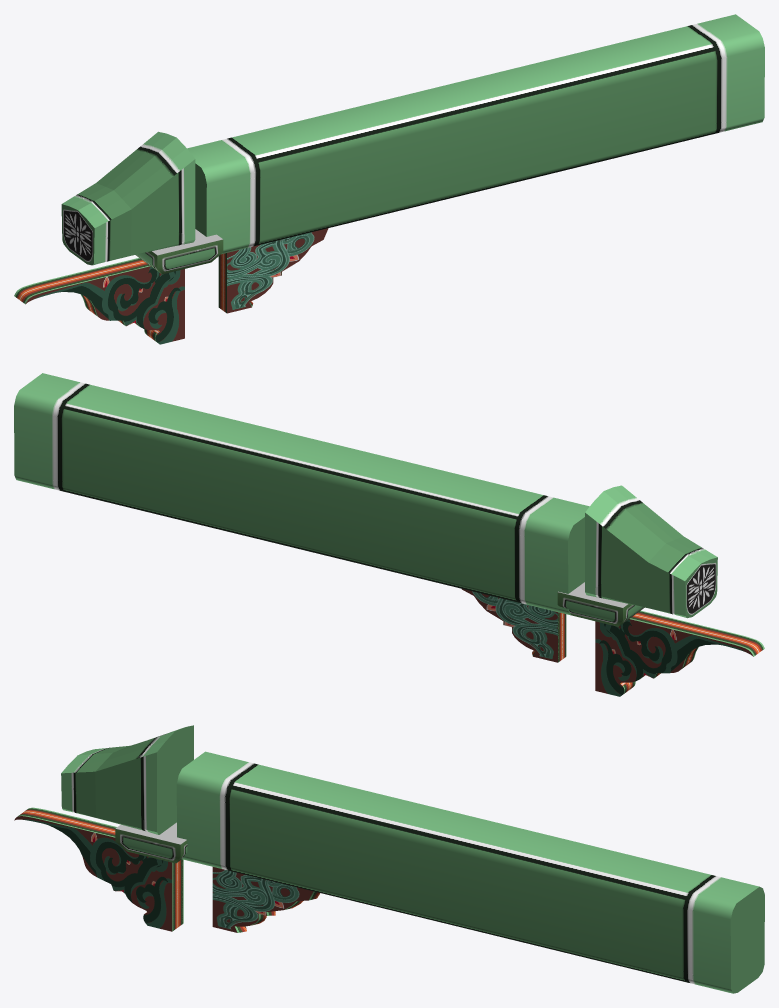
The model's file is SM_R_Beam_14.fbx.
3 renders of one model, top to bottom at view 1: azimuth 30°, elevation 25°; view 2: azimuth 150°, elevation 25°; view 3: azimuth 330°, elevation 25°, orthographic.
Parts seen in each view (by area): view 1: SM_R_Beam_14_LOD0; view 2: SM_R_Beam_14_LOD0; view 3: SM_R_Beam_14_LOD0.
Boxes of the visible parts, bbox=[...] form: SM_R_Beam_14_LOD0: bbox=[14, 14, 764, 344]; SM_R_Beam_14_LOD0: bbox=[14, 373, 764, 696]; SM_R_Beam_14_LOD0: bbox=[14, 725, 764, 993].
Size of the model in its own units: 338 by 32.84 by 87.18.
